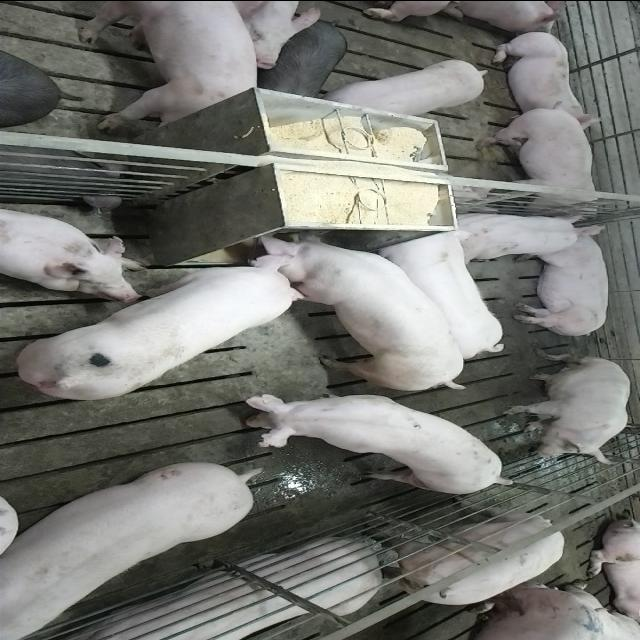Feeding: (15, 248, 308, 402), (244, 224, 467, 388)
Lateral_lying: (512, 222, 612, 338)
Sitting: (502, 354, 632, 465)
Standing: (0, 458, 258, 634), (222, 394, 511, 496), (75, 2, 260, 128), (362, 508, 564, 613), (376, 228, 511, 358), (474, 105, 610, 217), (324, 54, 493, 116), (256, 21, 352, 101), (2, 44, 62, 124)
Sternal_lying: (0, 204, 146, 296), (485, 27, 605, 123), (450, 208, 592, 262)
